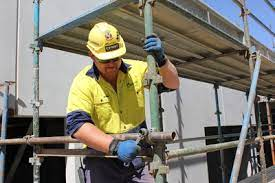Helmet: (84, 24, 128, 65)
No-jacket: (75, 70, 146, 145)
gloves: (146, 33, 171, 64)
